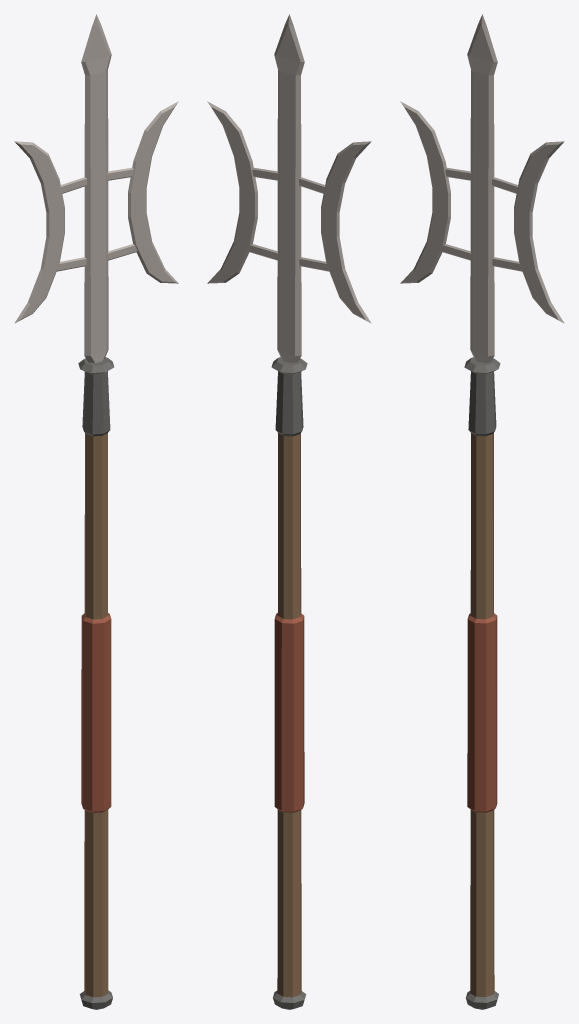
The model's file is SM_pwe_china_halberd_04a.fbx.
3 renders of one model, left to right at view 1: azimuth 30°, elevation 25°; view 2: azimuth 150°, elevation 25°; view 3: azimuth 330°, elevation 25°, orthographic.
Visible parts, largest first — view 1: SM_pwe_china_halberd_04a; view 2: SM_pwe_china_halberd_04a; view 3: SM_pwe_china_halberd_04a.
Boxes of the visible parts, <box> form: SM_pwe_china_halberd_04a: <box>14,14,178,1009</box>; SM_pwe_china_halberd_04a: <box>207,14,371,1009</box>; SM_pwe_china_halberd_04a: <box>400,14,564,1009</box>.
Size of the model in its own units: 34.29 by 198 by 6.76.
